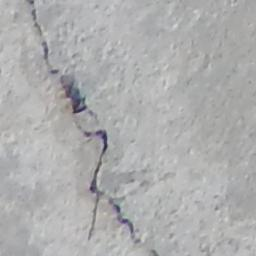Vertical Crack: (22, 0, 164, 256)
